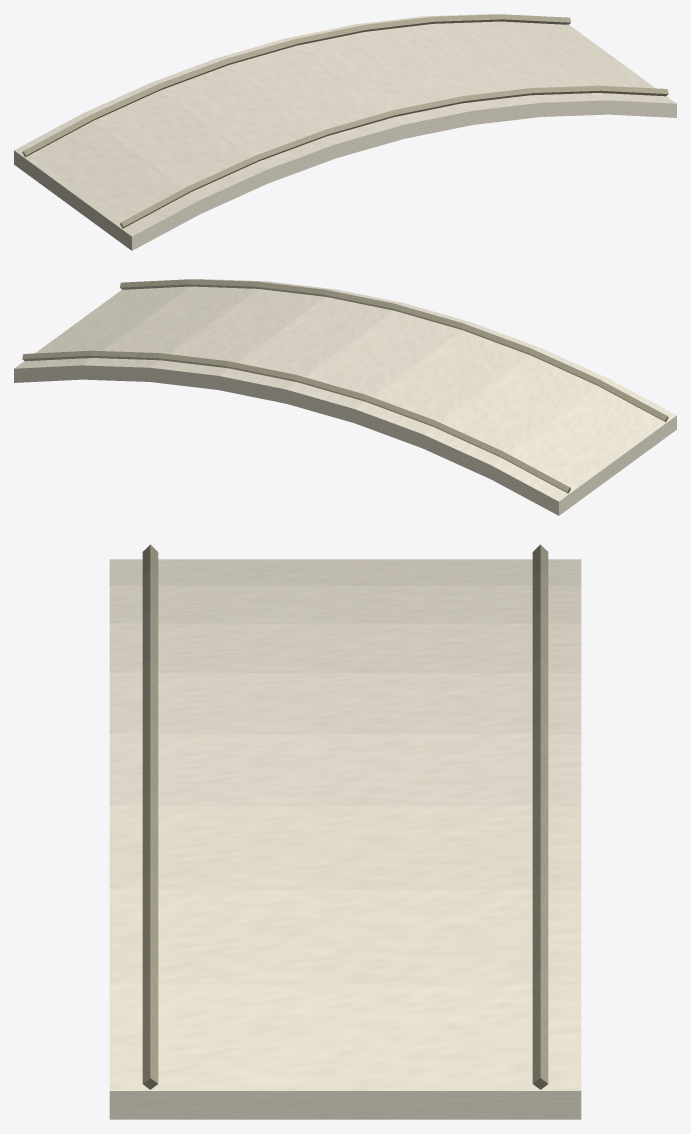
Rendered from body_bandage.obj.
3 renders of one model, top to bottom at view 1: azimuth 30°, elevation 25°; view 2: azimuth 150°, elevation 25°; view 3: azimuth 270°, elevation 25°, orthographic. The views are drawn at different scales.
Visible parts, largest first — view 1: body_bandage; view 2: body_bandage; view 3: body_bandage.
Part boxes in pixels (bbox=[...]): body_bandage: bbox=[14, 14, 676, 250]; body_bandage: bbox=[14, 279, 676, 515]; body_bandage: bbox=[109, 544, 581, 1119].
Size of the model in its own units: 4.01 by 0.47 by 1.5.
Materials: 1 (1 with a texture image).
